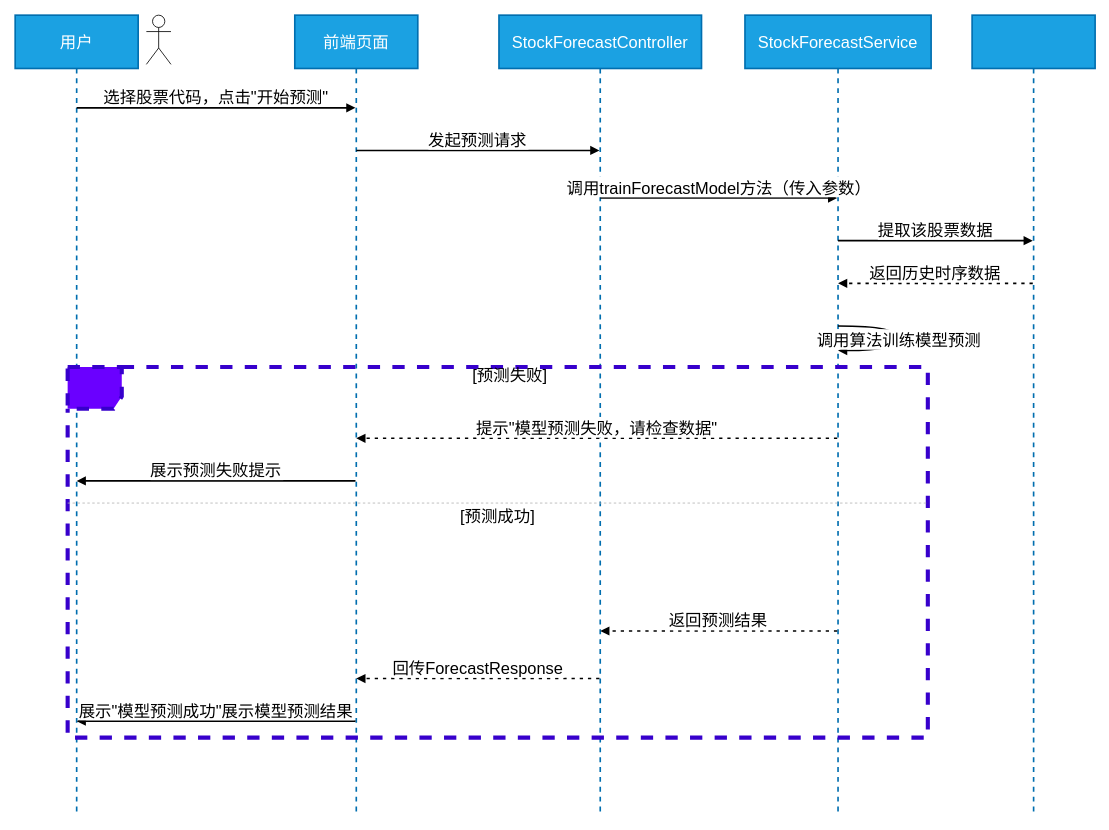
The diagram is 1109 pixels wide and 830 high, and some of its shapes have lost their labels. Each missing label, with the box of its shape:
alt: (65, 364, 929, 739)
Stock: (971, 14, 1096, 816)
